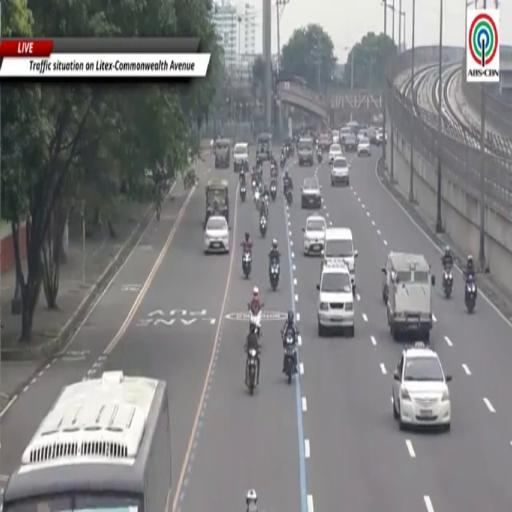bus: (3, 372, 172, 511)
car: (392, 342, 451, 430), (317, 261, 354, 337), (204, 216, 229, 252), (303, 215, 326, 254), (301, 178, 321, 209), (331, 156, 349, 186), (298, 137, 314, 166), (234, 142, 248, 171), (343, 132, 357, 153), (329, 143, 342, 164), (358, 137, 371, 156), (318, 134, 330, 151), (340, 126, 351, 143), (346, 121, 359, 135), (357, 128, 369, 143), (376, 130, 386, 146), (331, 130, 339, 143)
jeepney: (204, 179, 229, 226), (215, 139, 230, 168)
motorcycle: (285, 330, 296, 383), (248, 303, 263, 338), (246, 349, 257, 394), (465, 276, 476, 313), (443, 266, 453, 298), (270, 260, 279, 291), (242, 251, 251, 278), (259, 216, 267, 237), (270, 179, 276, 201), (263, 196, 269, 217), (254, 188, 260, 209), (285, 189, 292, 205), (240, 185, 246, 201), (271, 166, 278, 179), (239, 169, 245, 184), (252, 179, 257, 195), (280, 157, 285, 169), (318, 152, 322, 164)
